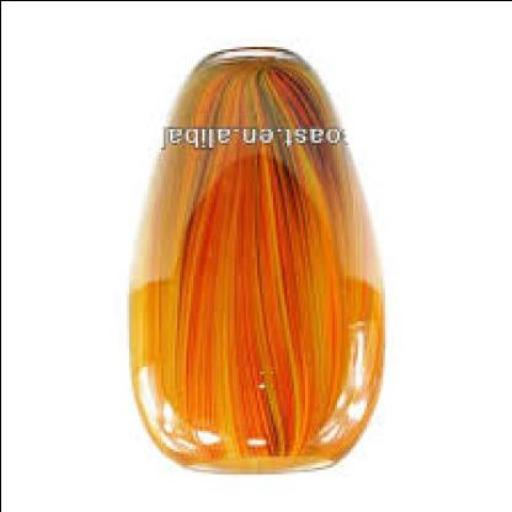glass: (128, 48, 386, 474)
